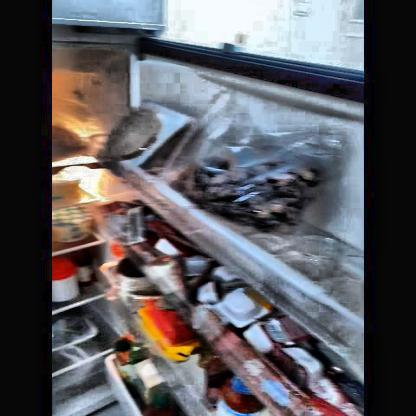butter: (129, 308, 190, 352)
dates: (178, 146, 307, 212)
salami: (108, 112, 159, 157)
yoghurt: (52, 206, 96, 243)
